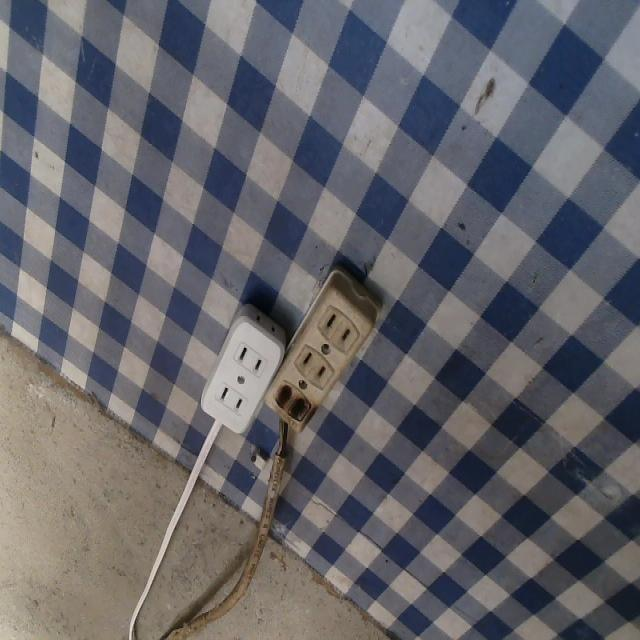-: (270, 376, 315, 429)
